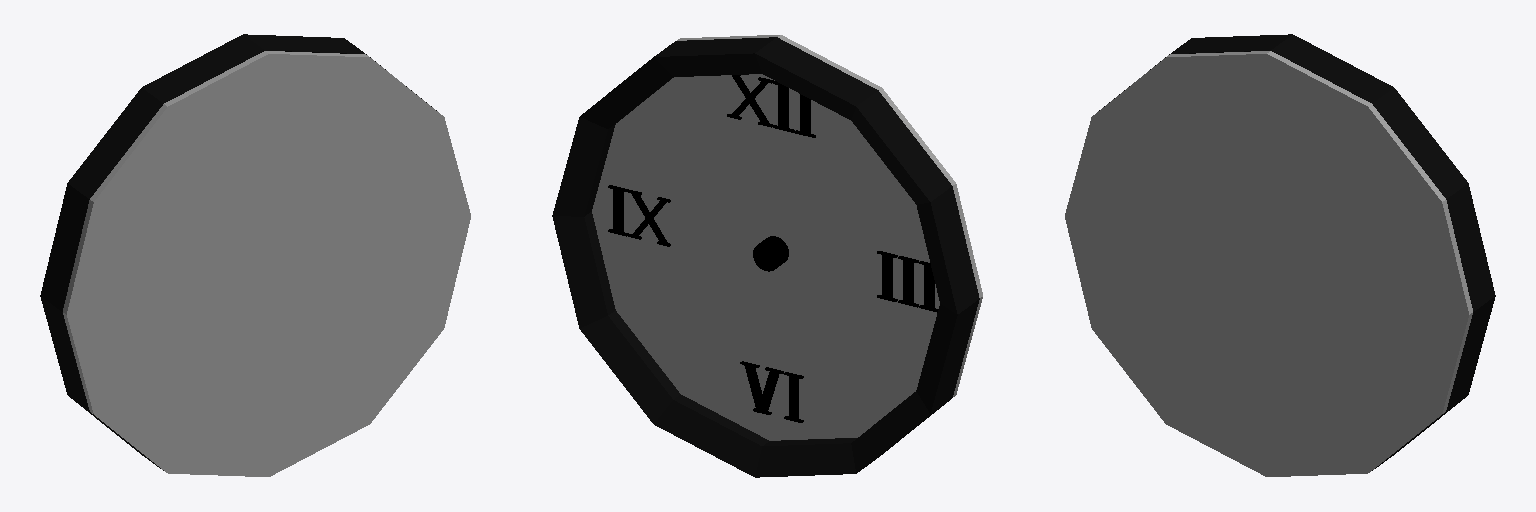
The model's file is clock_body.obj.
3 renders of one model, left to right at view 1: azimuth 30°, elevation 25°; view 2: azimuth 150°, elevation 25°; view 3: azimuth 330°, elevation 25°, orthographic.
Parts seen in each view (by area): view 1: clock_body.001, clock_body; view 2: clock_body.001, clock_body, 12_Cube.022, 3_Cube.025, 6_Cube.016, 9_Cube.019, Cylinder; view 3: clock_body.001, clock_body.
Boxes of the visible parts, x1=… form: clock_body.001: x1=63, y1=51, x2=470, y2=476; clock_body: x1=40, y1=34, x2=436, y2=470; clock_body.001: x1=592, y1=35, x2=982, y2=440; clock_body: x1=552, y1=37, x2=979, y2=477; 12_Cube.022: x1=727, y1=75, x2=815, y2=137; 3_Cube.025: x1=877, y1=251, x2=938, y2=312; 6_Cube.016: x1=740, y1=361, x2=803, y2=422; 9_Cube.019: x1=608, y1=185, x2=670, y2=246; Cylinder: x1=753, y1=236, x2=788, y2=271; clock_body.001: x1=1065, y1=51, x2=1472, y2=476; clock_body: x1=1099, y1=34, x2=1495, y2=470.
Bounding box in the file's own units: 2.31 × 2.31 × 0.2575.